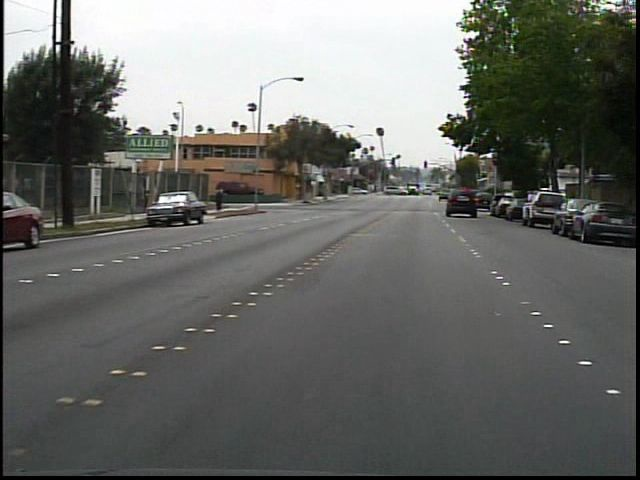person: (217, 182, 233, 215)
